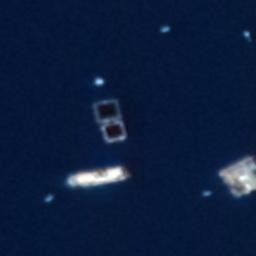square_solid: (89, 96, 126, 127), (97, 116, 130, 146)
